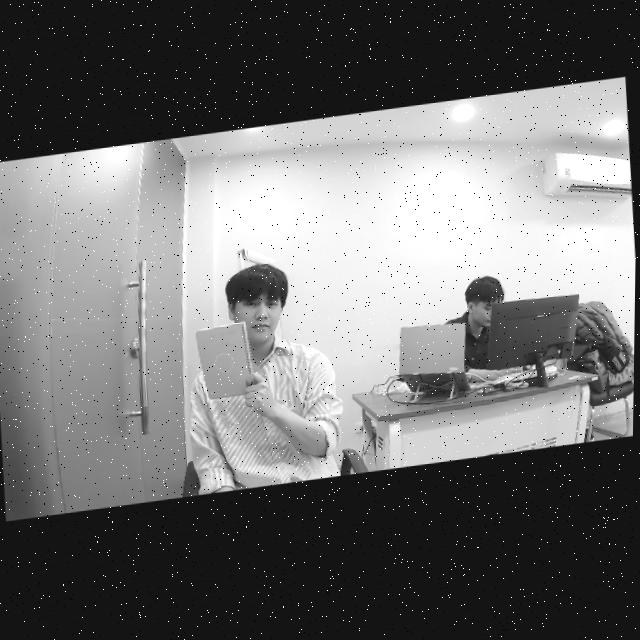document: (194, 321, 254, 400)
face: (238, 282, 283, 342)
